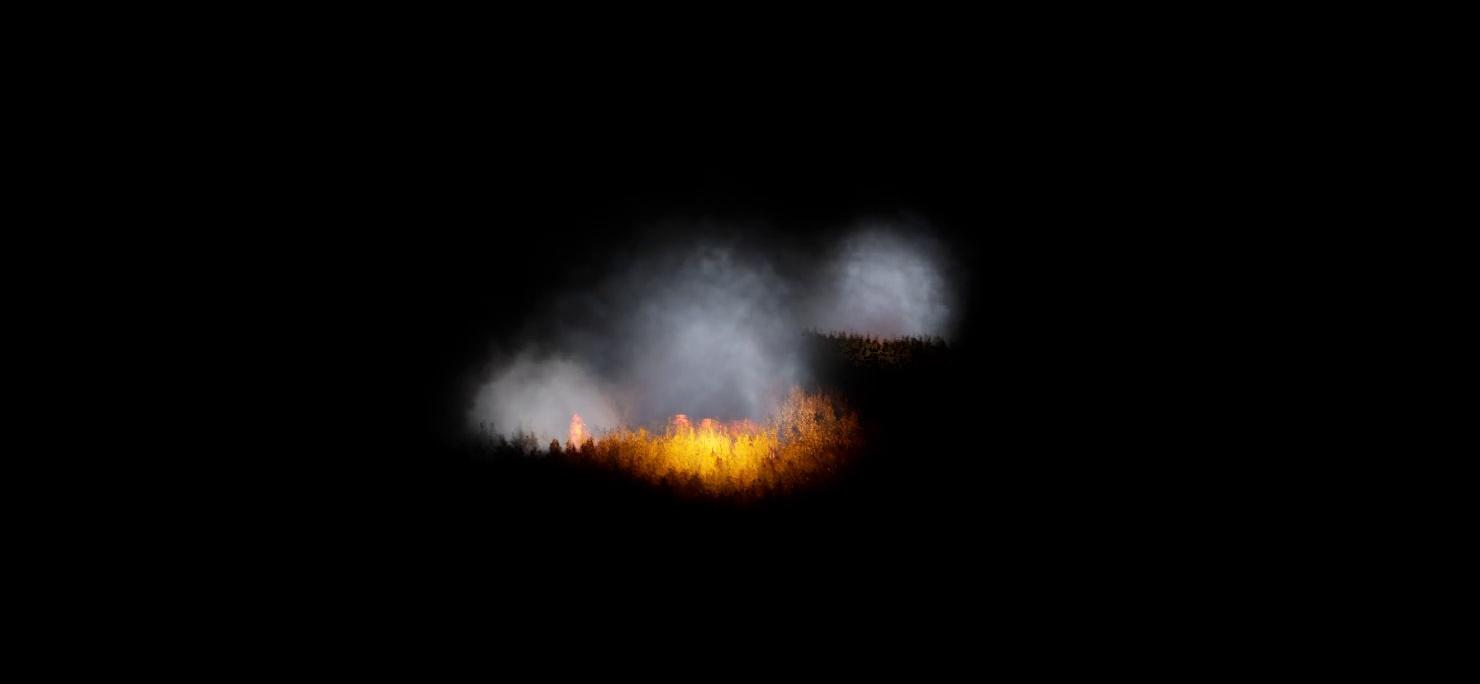fire: (559, 382, 853, 492)
smoke: (478, 217, 959, 457)
